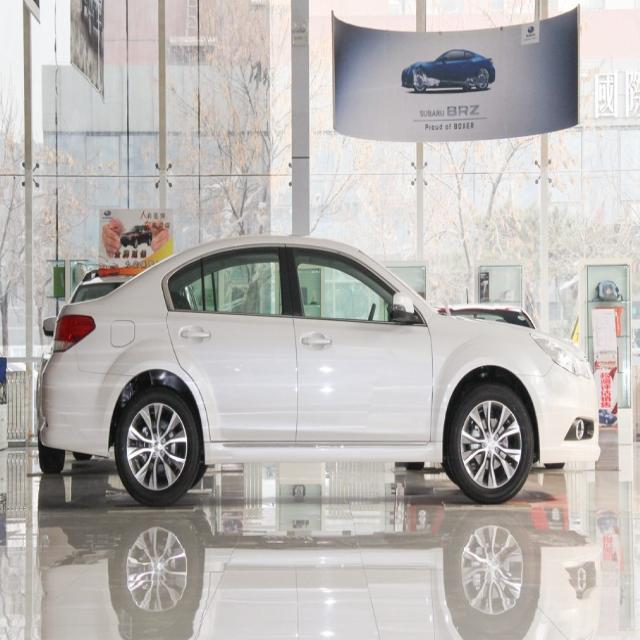back_right_side_light: (52, 313, 97, 358)
door: (168, 242, 298, 462)
front_right_side_door: (282, 239, 436, 462)
front_right_side_light: (528, 317, 604, 397)
front_right_side_mirror: (386, 288, 426, 336)
wheel: (109, 380, 210, 518), (442, 377, 542, 512)
